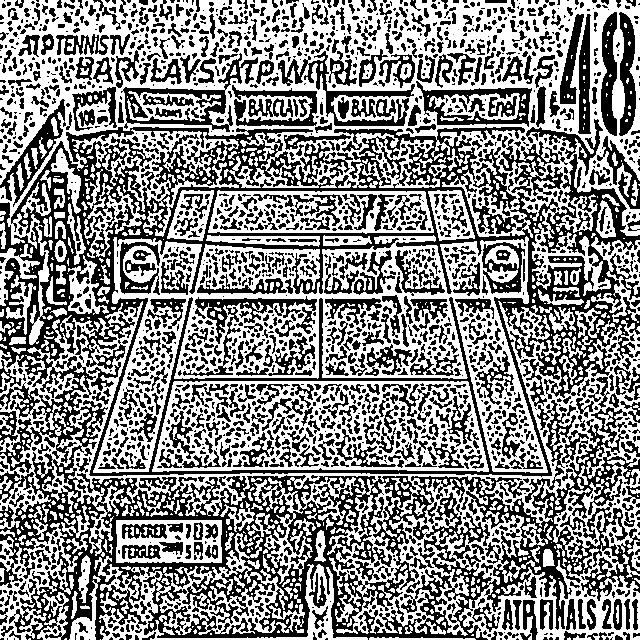left side: (92, 189, 216, 474), (426, 190, 550, 474)
player: (374, 242, 416, 350), (358, 196, 384, 276)
